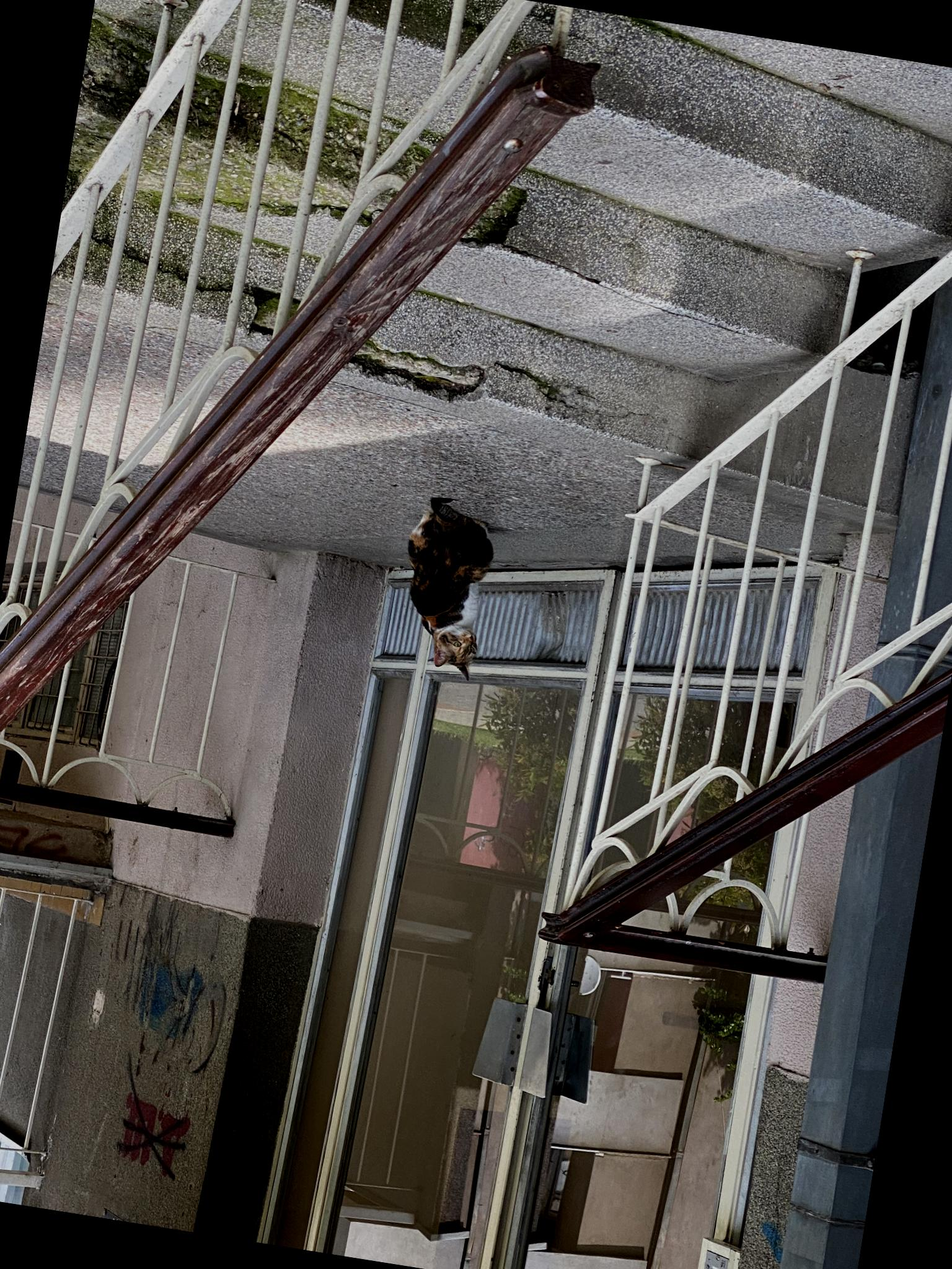macka: (386, 493, 502, 682)
